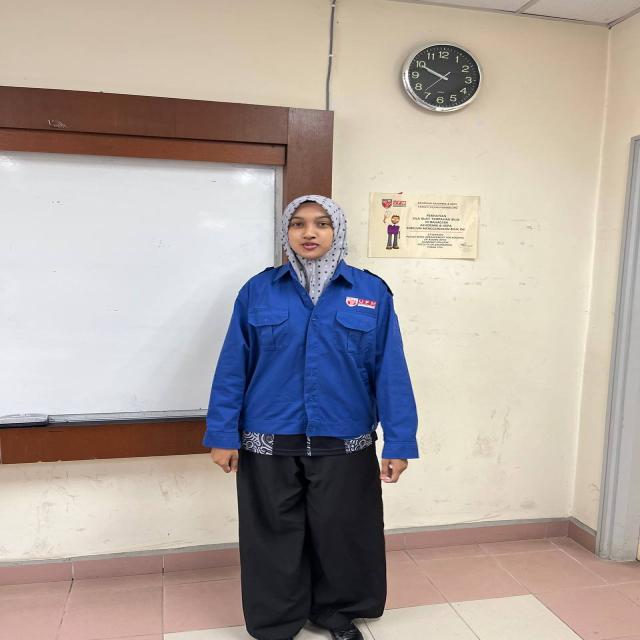person_with_labcoat: (203, 194, 418, 640)
